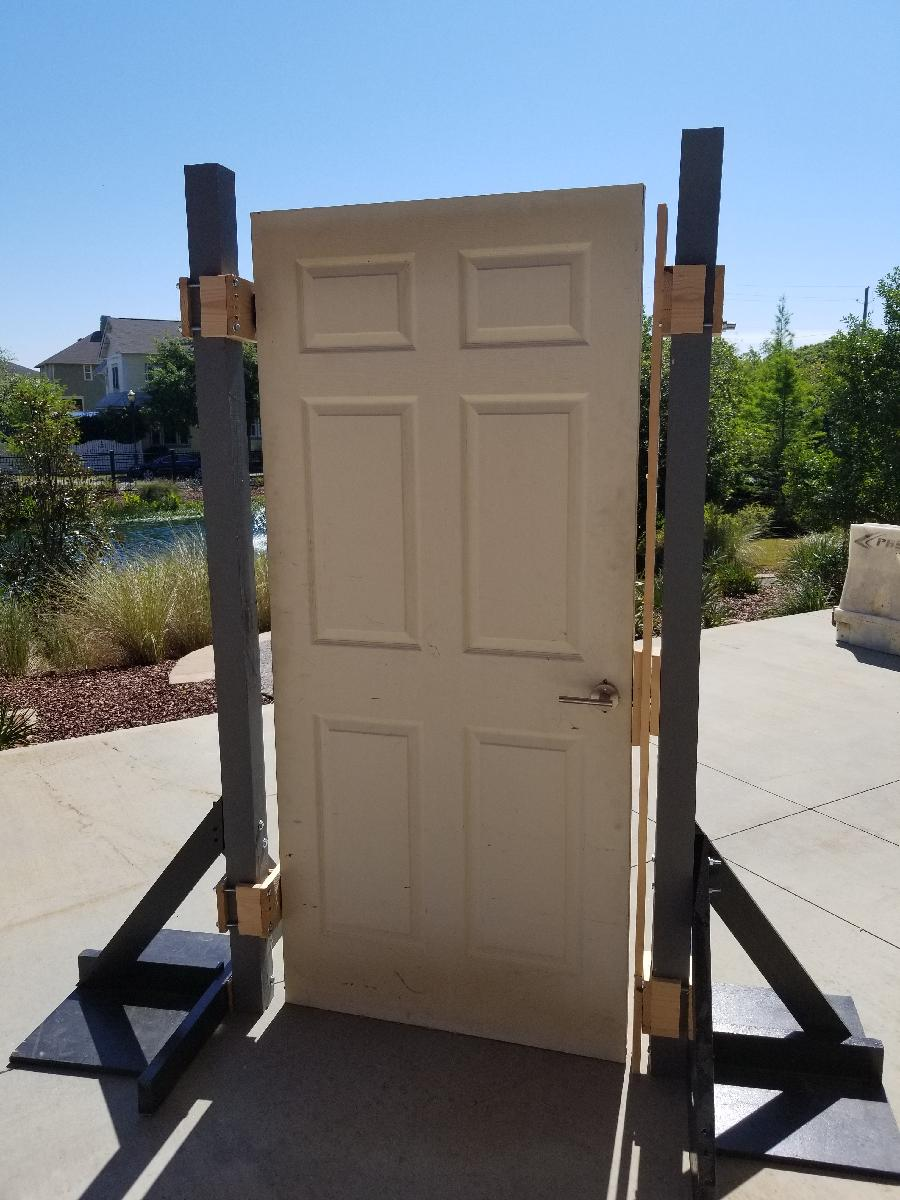door: (247, 179, 650, 1070)
doorHandle: (554, 675, 630, 728)
